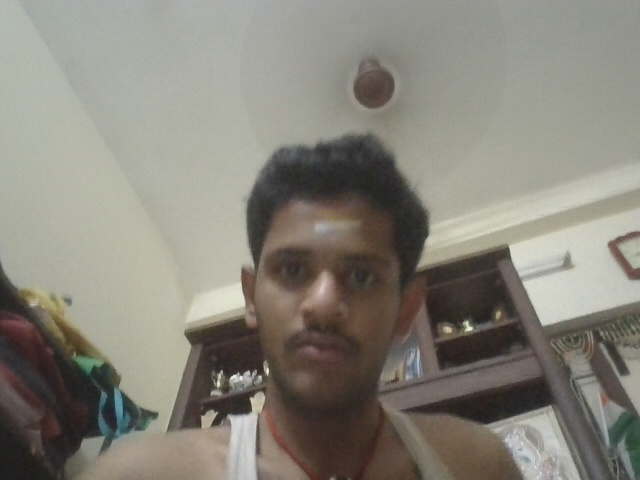real: (230, 195, 424, 389), (505, 406, 577, 478)
